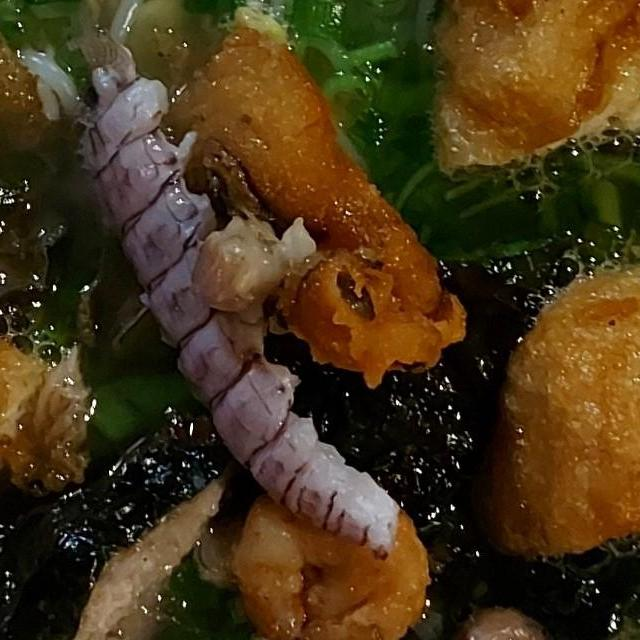bun hai san: (0, 0, 640, 640)
ca: (145, 0, 486, 398), (489, 251, 640, 577), (414, 0, 640, 181)
tom: (219, 469, 446, 640)
tom tit: (55, 43, 414, 572)
